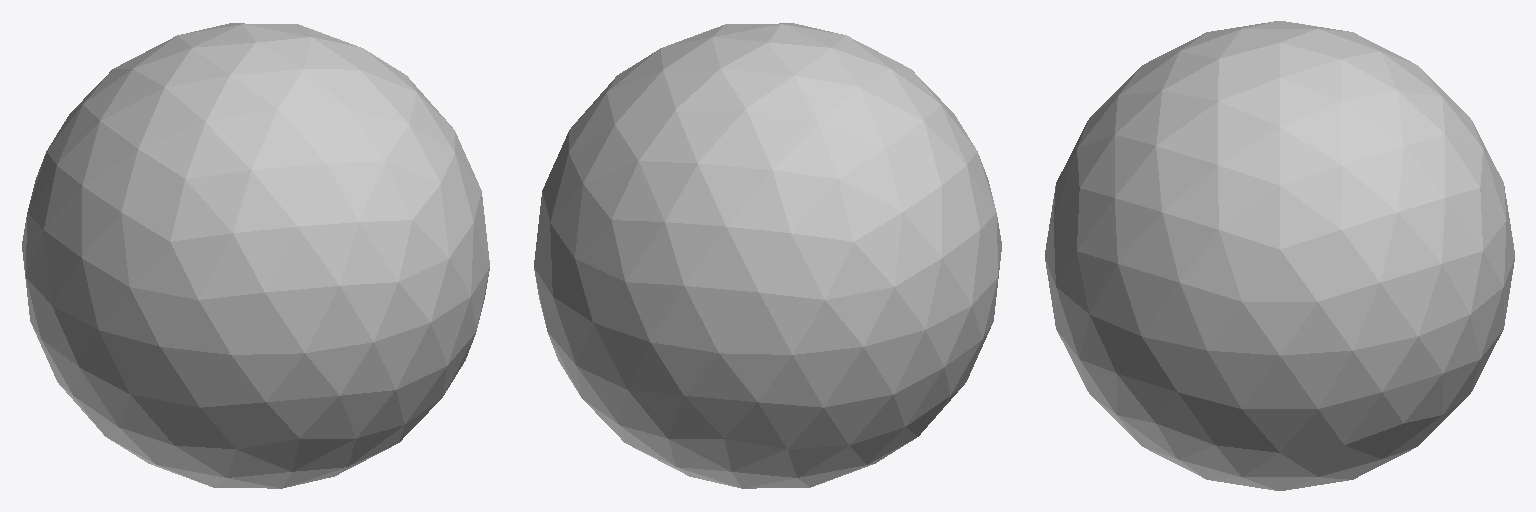
File: camera.obj
The picture shows the model from 3 angles: view 1: azimuth 30°, elevation 25°; view 2: azimuth 150°, elevation 25°; view 3: azimuth 270°, elevation 25°; orthographic projection.
Visible parts, largest first — view 1: Icosphere; view 2: Icosphere; view 3: Icosphere.
Boxes of the visible parts, box(x1,y1,x2,y2) form: Icosphere: box(22, 23, 489, 488); Icosphere: box(534, 23, 1001, 488); Icosphere: box(1045, 21, 1514, 490).
Size of the model in its own units: 1 by 1 by 1.